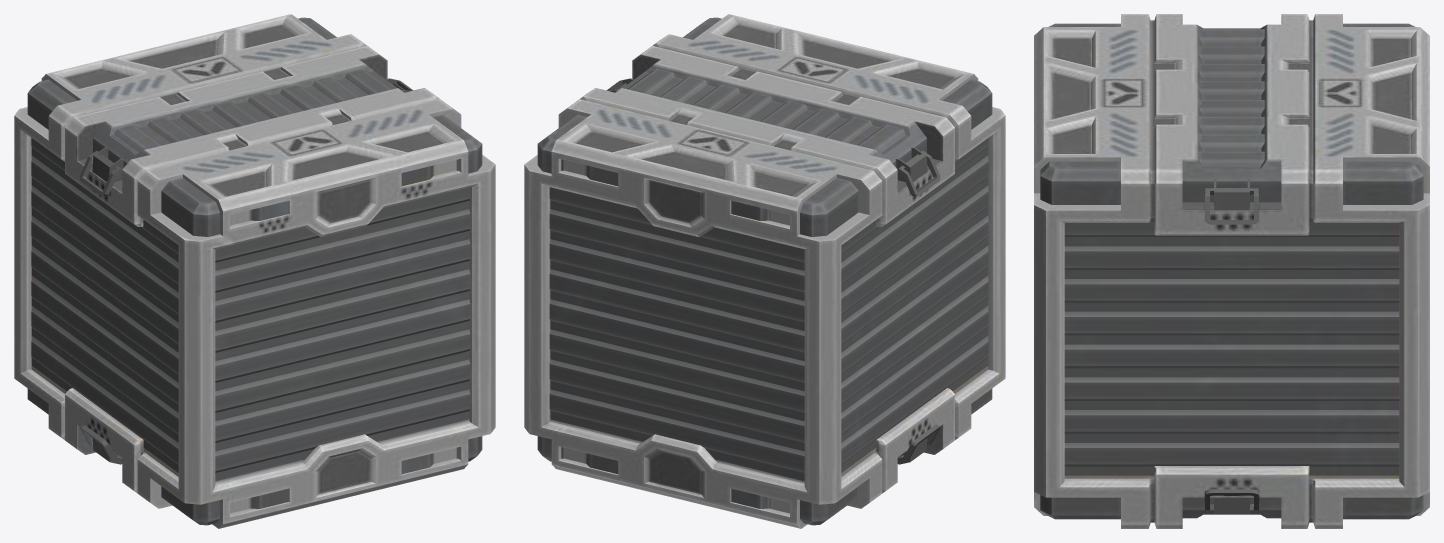
The model's file is Prop_Crate_L1_1k.glb.
3 views of the same model, side by side, from view 1: azimuth 30°, elevation 25°; view 2: azimuth 150°, elevation 25°; view 3: azimuth 270°, elevation 25° (orthographic). The views are drawn at different scales.
Parts seen in each view (by area): view 1: Prop_Crate; view 2: Prop_Crate; view 3: Prop_Crate.
Boxes of the visible parts, x1,y1,x2,y2 form: Prop_Crate: (14, 14, 495, 528); Prop_Crate: (524, 14, 1005, 528); Prop_Crate: (1034, 14, 1429, 528).
Size of the model in its own units: 1.57 by 1.5 by 1.5.
1 material, 1 textured.
